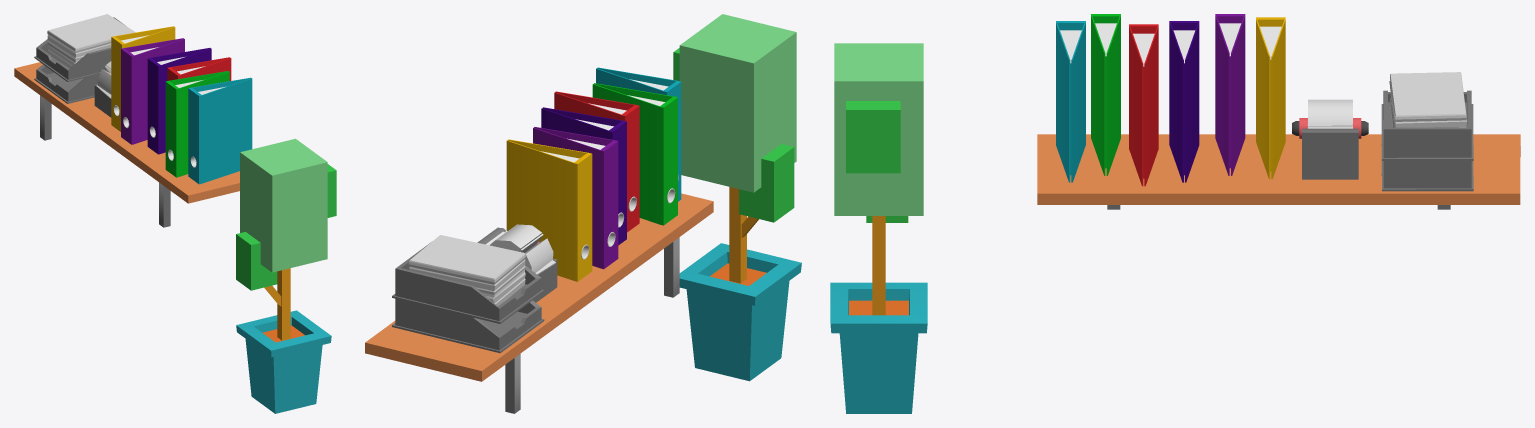
File: SalaReunionesObjetos02.fbx
3 renders of one model, left to right at view 1: azimuth 30°, elevation 25°; view 2: azimuth 150°, elevation 25°; view 3: azimuth 270°, elevation 25°, orthographic. The views are drawn at different scales.
Visible parts, largest first — view 1: SalaReunionesObjetos02; view 2: SalaReunionesObjetos02; view 3: SalaReunionesObjetos02.
Boxes of the visible parts, x1=… form: SalaReunionesObjetos02: x1=14, y1=14, x2=336, y2=413; SalaReunionesObjetos02: x1=365, y1=14, x2=801, y2=413; SalaReunionesObjetos02: x1=830, y1=14, x2=1520, y2=413.
Size of the model in its own units: 51.96 by 149 by 255.
